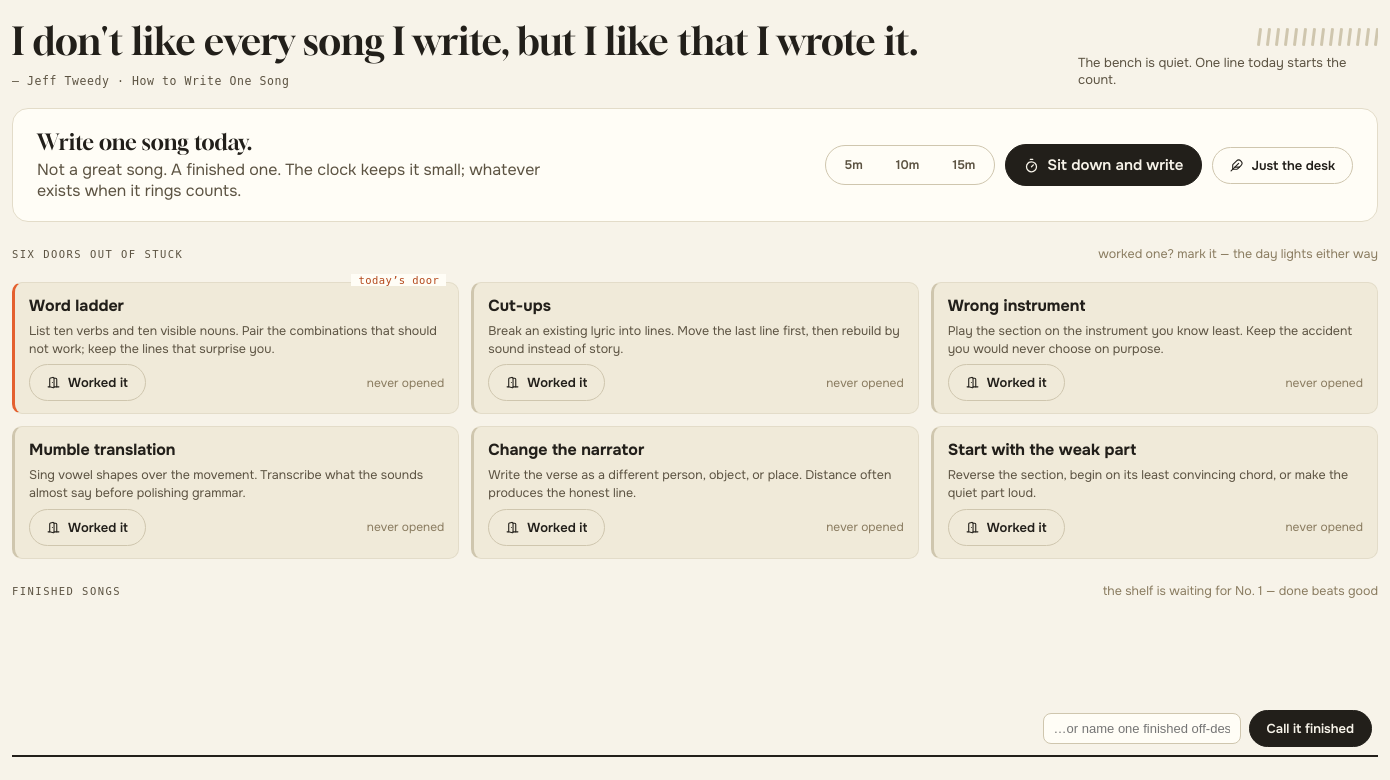
it: OneSong › working a door stamps it today and lights the bench
The image size is (1390, 780).
Click the button "Worked it" below "Word ladder" at (87, 383), box 29,364 -> 146,401
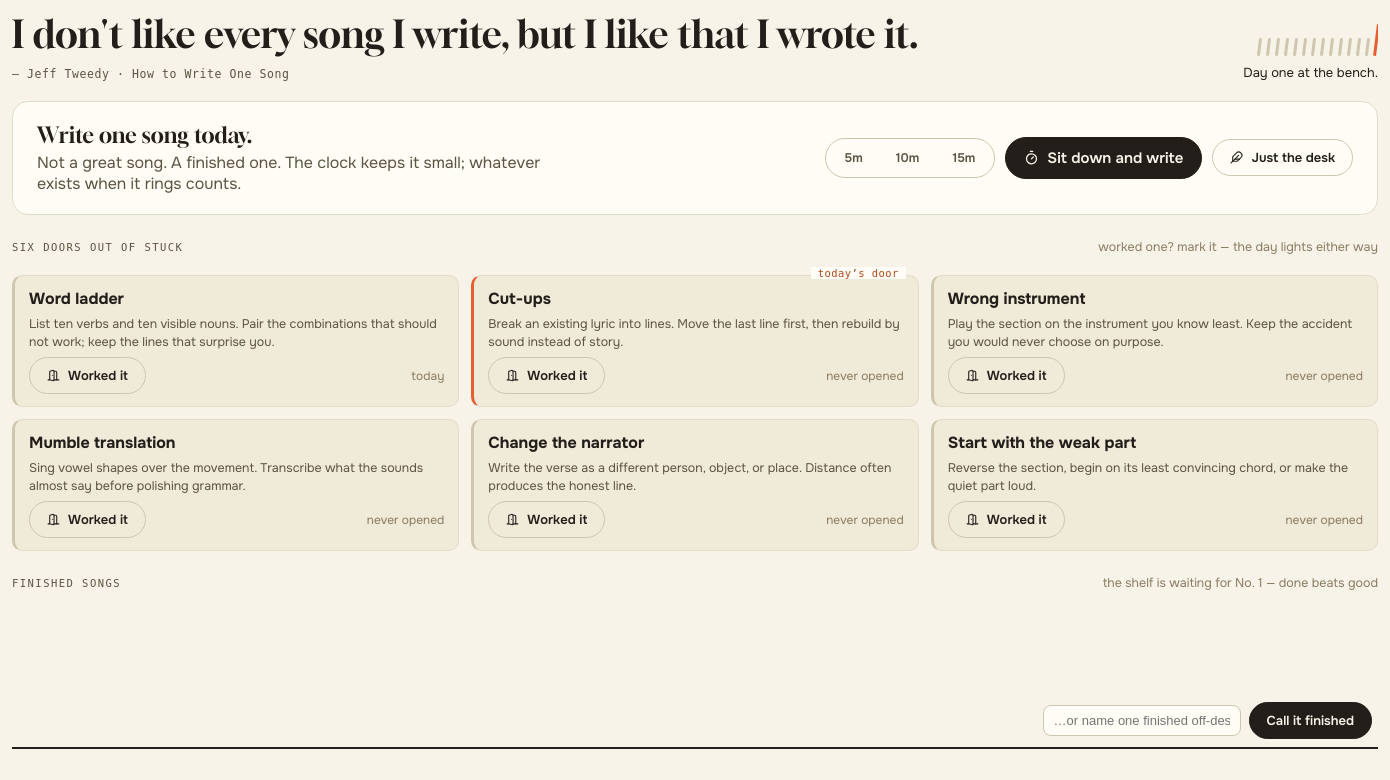
Check: the text "today" is shown, box 411,368 -> 444,384
Check: the text "Day one at the bench." is shown, box 1243,64 -> 1378,81
